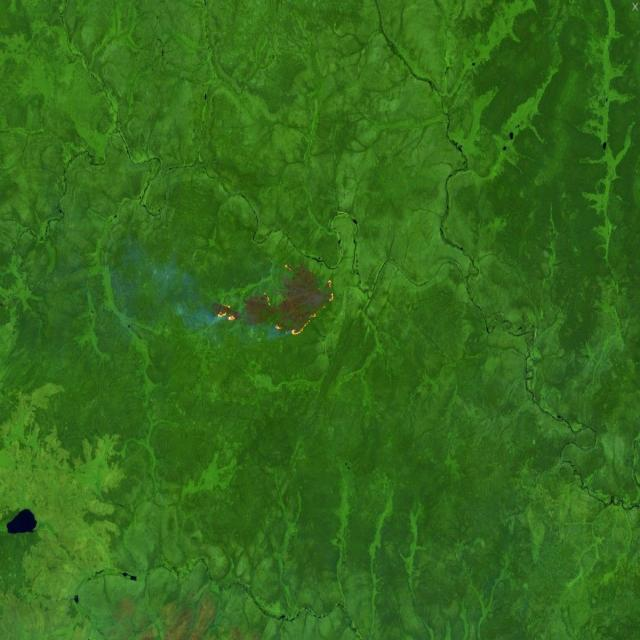fire: (212, 259, 339, 350)
